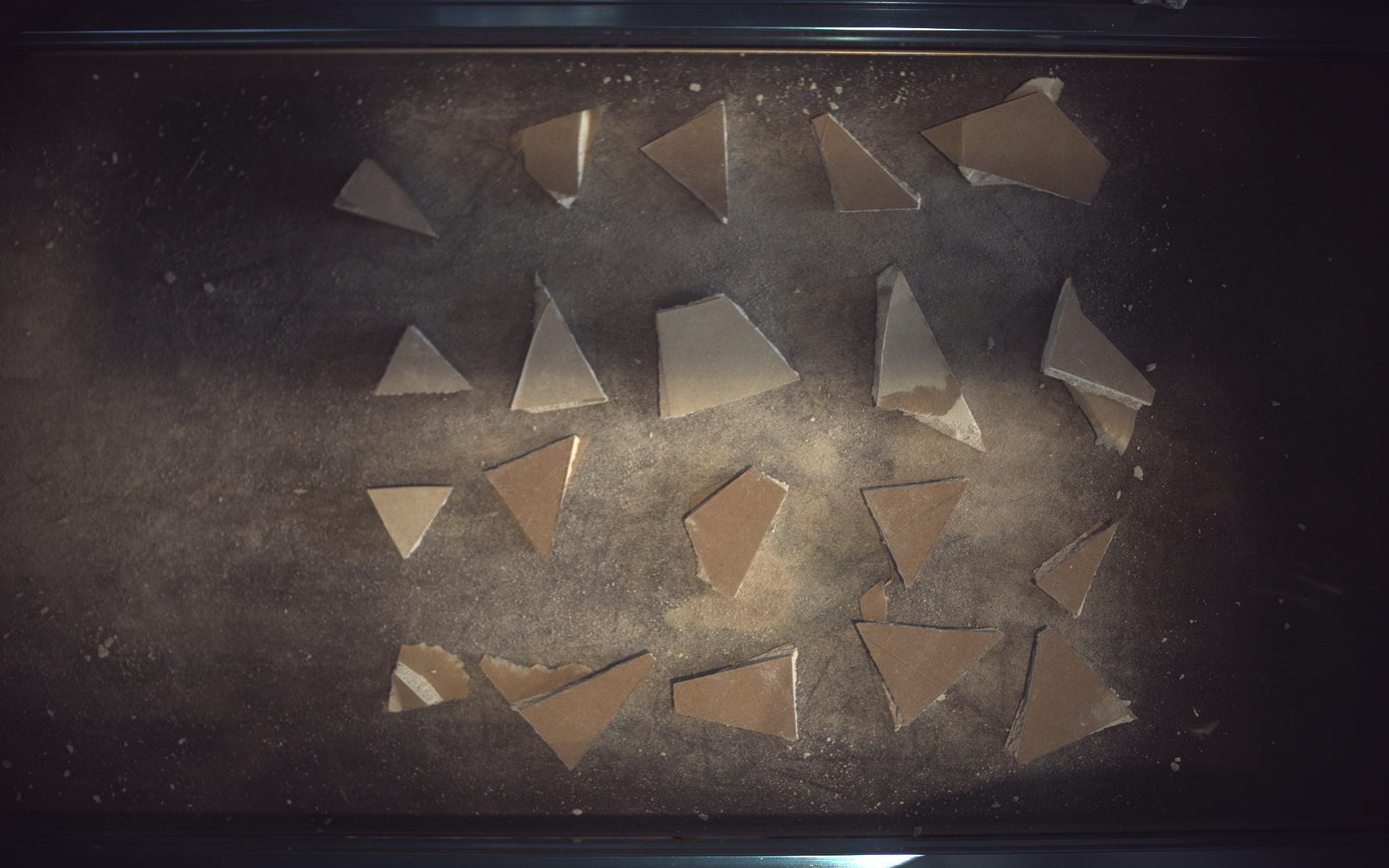gypsum_board: (924, 77, 1112, 203), (857, 583, 1005, 731), (874, 264, 988, 451), (480, 652, 655, 770), (1044, 278, 1158, 454), (657, 293, 801, 419), (1007, 628, 1138, 764), (685, 466, 789, 598), (511, 275, 609, 413), (485, 436, 590, 561), (674, 647, 799, 741), (864, 480, 969, 588), (642, 100, 730, 223), (813, 113, 923, 211), (507, 105, 604, 208), (1036, 521, 1121, 618), (333, 158, 437, 237), (374, 325, 472, 395), (367, 487, 452, 559), (386, 644, 472, 714)
